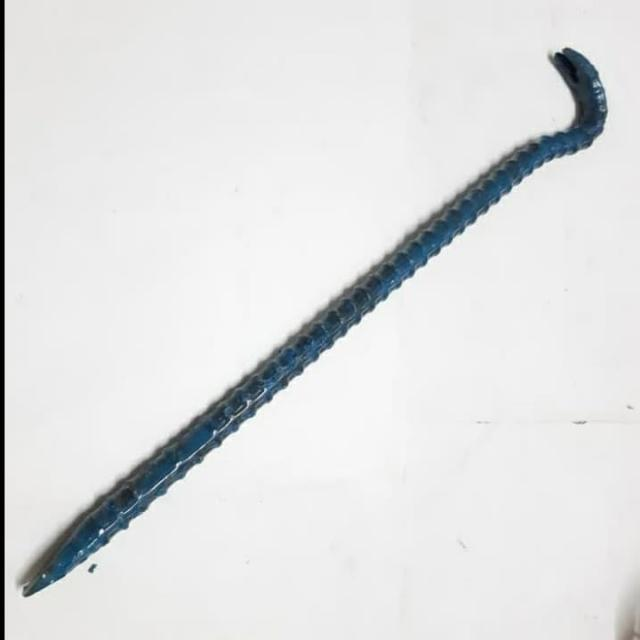Linggis: (25, 49, 609, 600)
